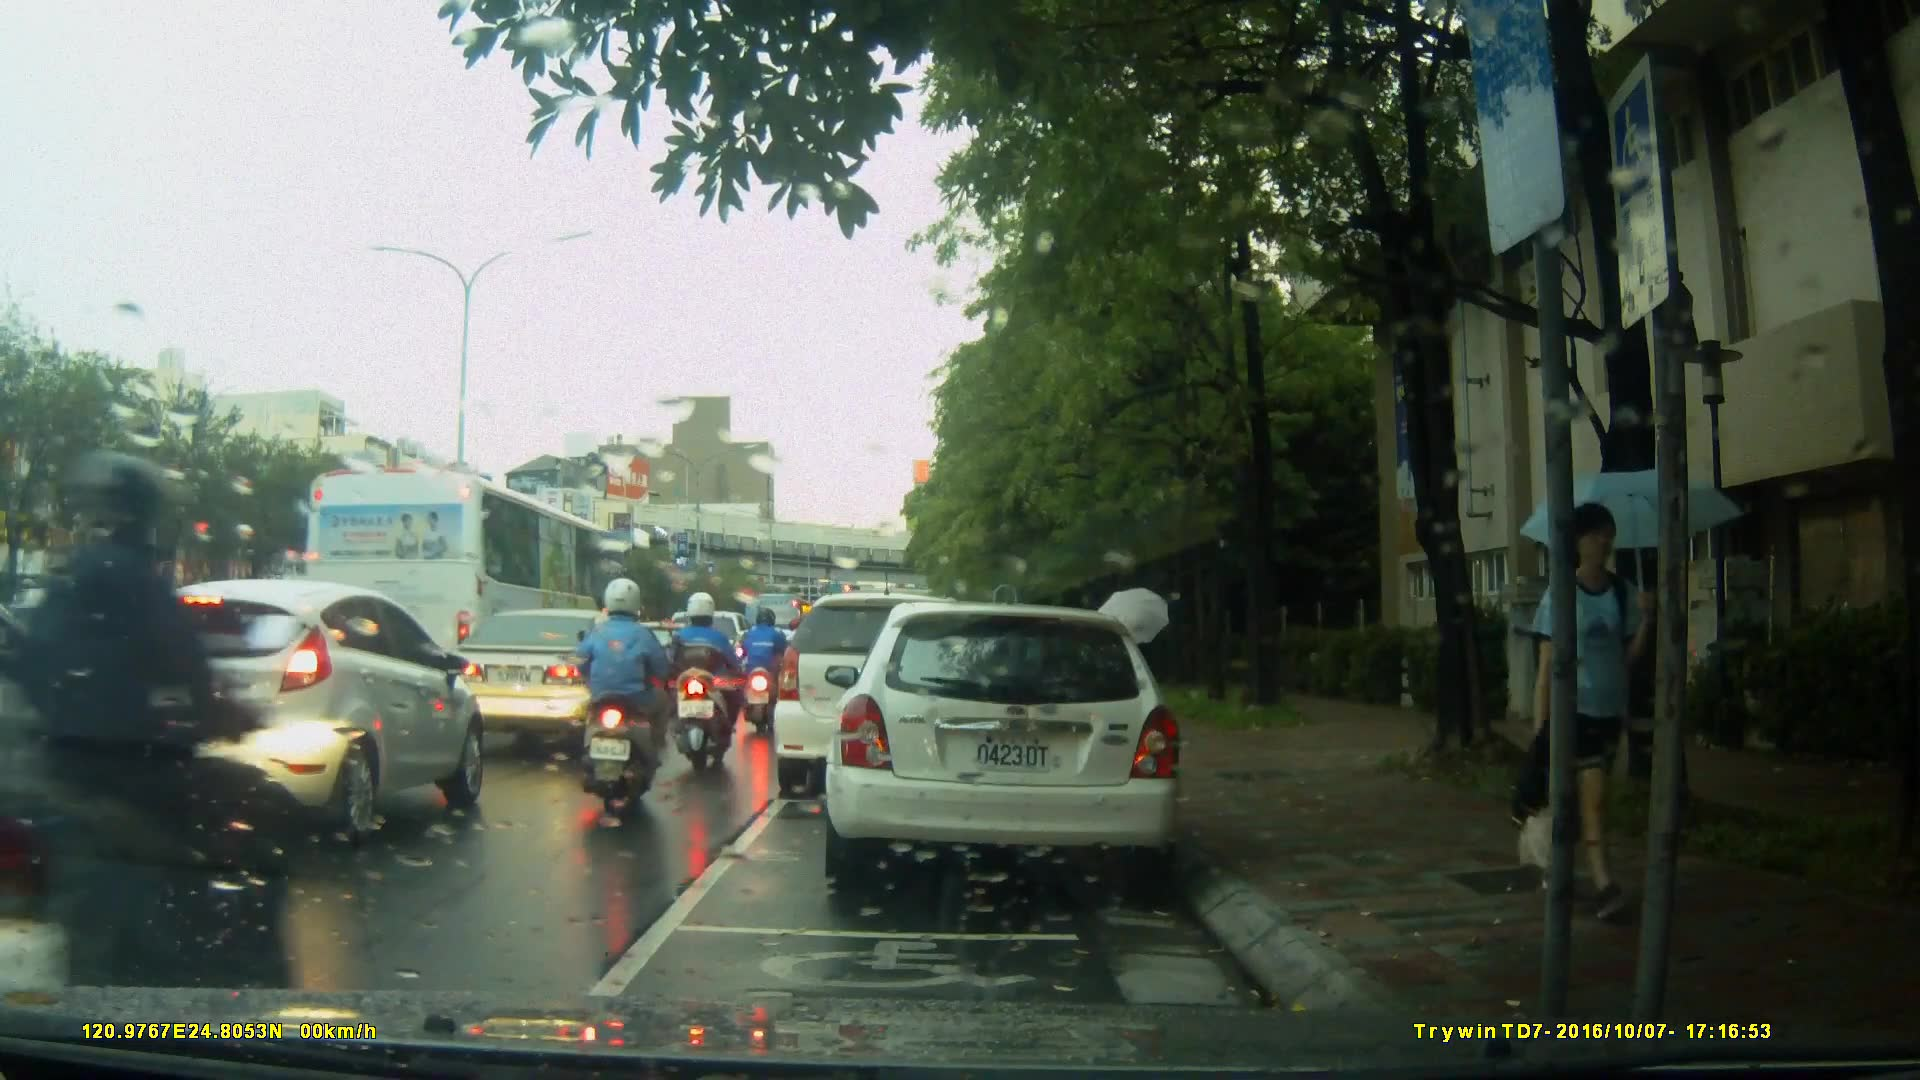pedestrian: (1506, 492, 1664, 935)
rider: (1, 444, 290, 1065), (575, 579, 689, 806), (669, 588, 745, 786), (735, 606, 789, 745)
vehicle: (835, 594, 1194, 898), (101, 576, 488, 846), (301, 466, 629, 728), (1, 547, 184, 971), (776, 590, 1026, 784), (436, 606, 673, 753), (1, 586, 155, 697), (612, 620, 719, 710)
